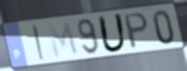0: (152, 8, 176, 47)
9: (77, 18, 102, 56)
I: (31, 24, 47, 62)
M: (45, 20, 81, 60)
P: (123, 11, 150, 51)
U: (96, 12, 128, 55)
